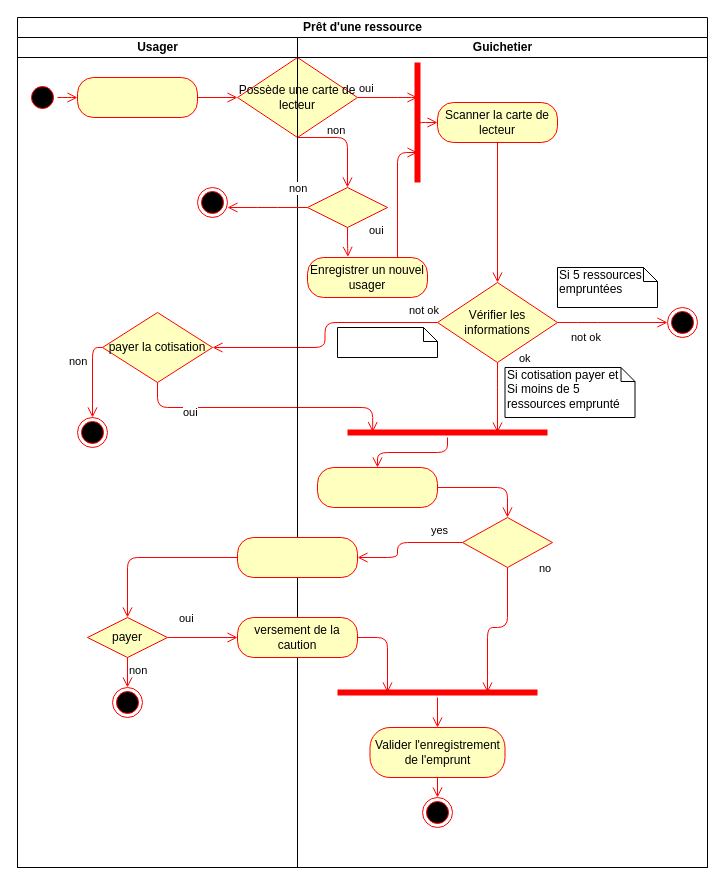
The diagram is 725 pixels wide and 885 high, and some of its shapes have lost their labels. Here are the shapes that lost their labels. From the top down, the centre of each, then its label:
point 137,97: Demander un emprunt
point 347,207: Personnel
point 387,342: Si cotisation non payée
point 377,487: Scanner la (ou les) ressource(s)
point 297,557: Demander une caution
point 507,542: CD-ROM
